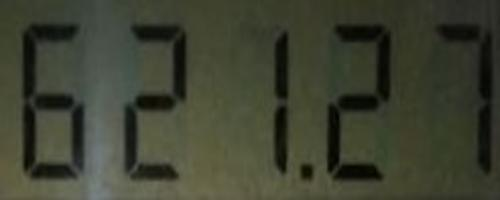.: (296, 161, 315, 181)
